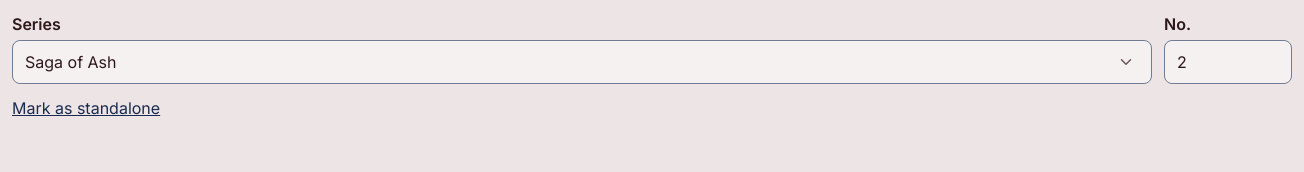
SeriesPicker › clears the series when you mark the book standalone
Click the button "Mark as standalone" at (86, 108), box 12,96 -> 160,120
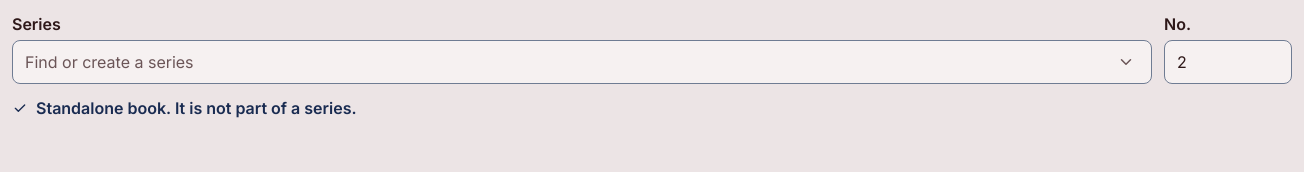
Result: the message shows "Standalone book" at 36,98 -> 356,118
Result: the button "Mark as standalone" is gone
